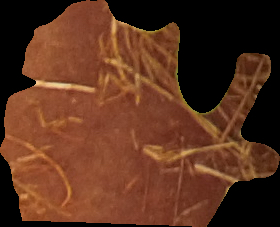soil: (3, 3, 277, 223)
